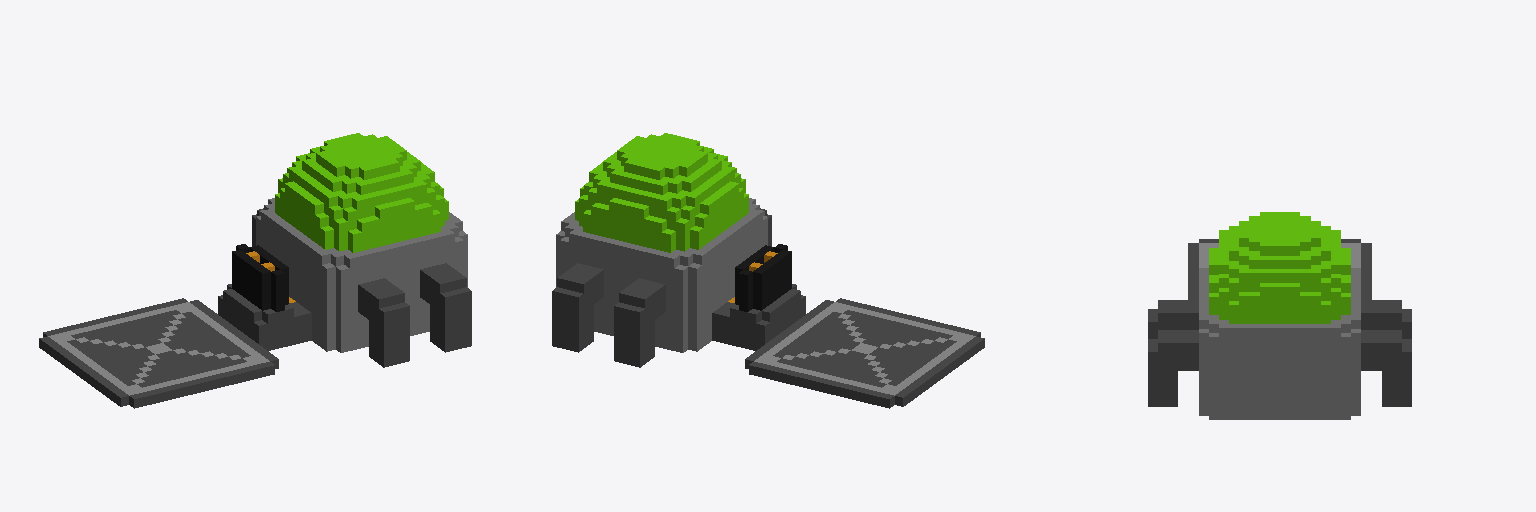
3 views of the same model, side by side, from view 1: azimuth 30°, elevation 25°; view 2: azimuth 150°, elevation 25°; view 3: azimuth 270°, elevation 25° (orthographic).
Parts seen in each view (by area): view 1: object 1; view 2: object 1; view 3: object 1.
Boxes of the visible parts, <box> form: object 1: <box>39,133,471,408</box>; object 1: <box>552,133,984,408</box>; object 1: <box>1148,212,1411,419</box>.
Size of the model in its own units: 4 by 1.7 by 2.6.
Materials: 1 (1 with a texture image).